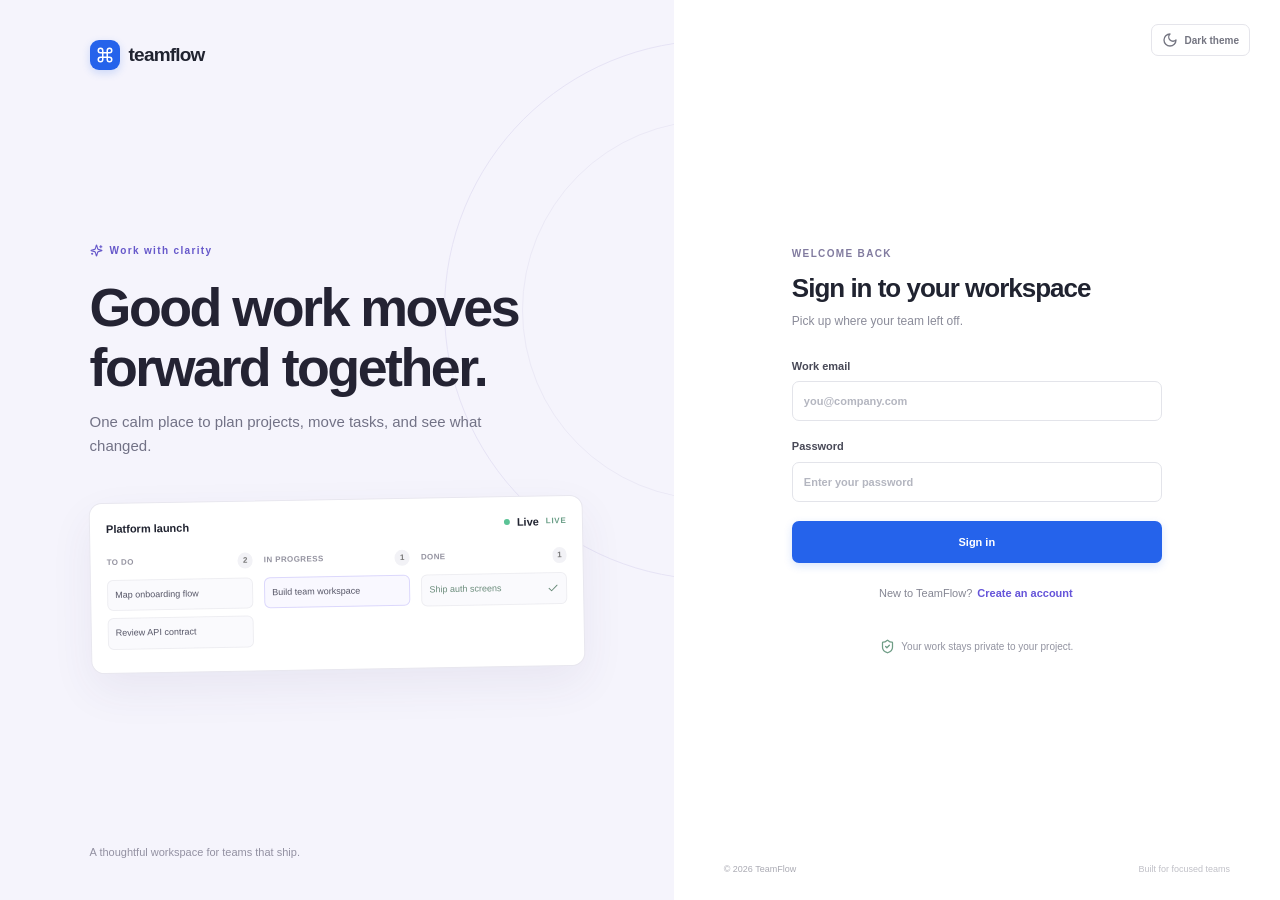
Test case: authentication form › shows a safe API error when sign in fails
In the field labelled "Work email": coordinates (977, 401) [792,381,1162,421], type "sam@example.com"
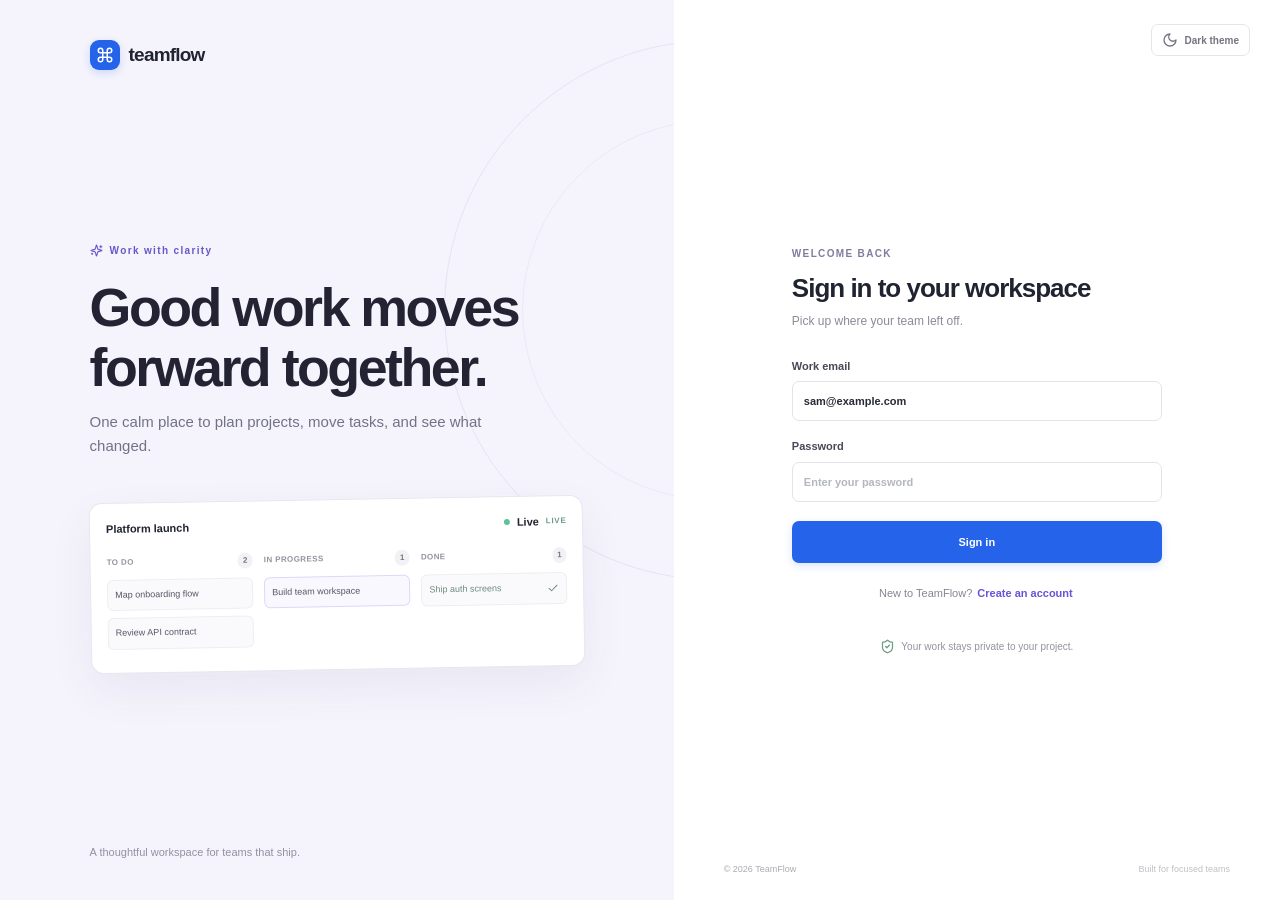
In the password field labelled "Password": coordinates (977, 482) [792,462,1162,502], type "valid-password"
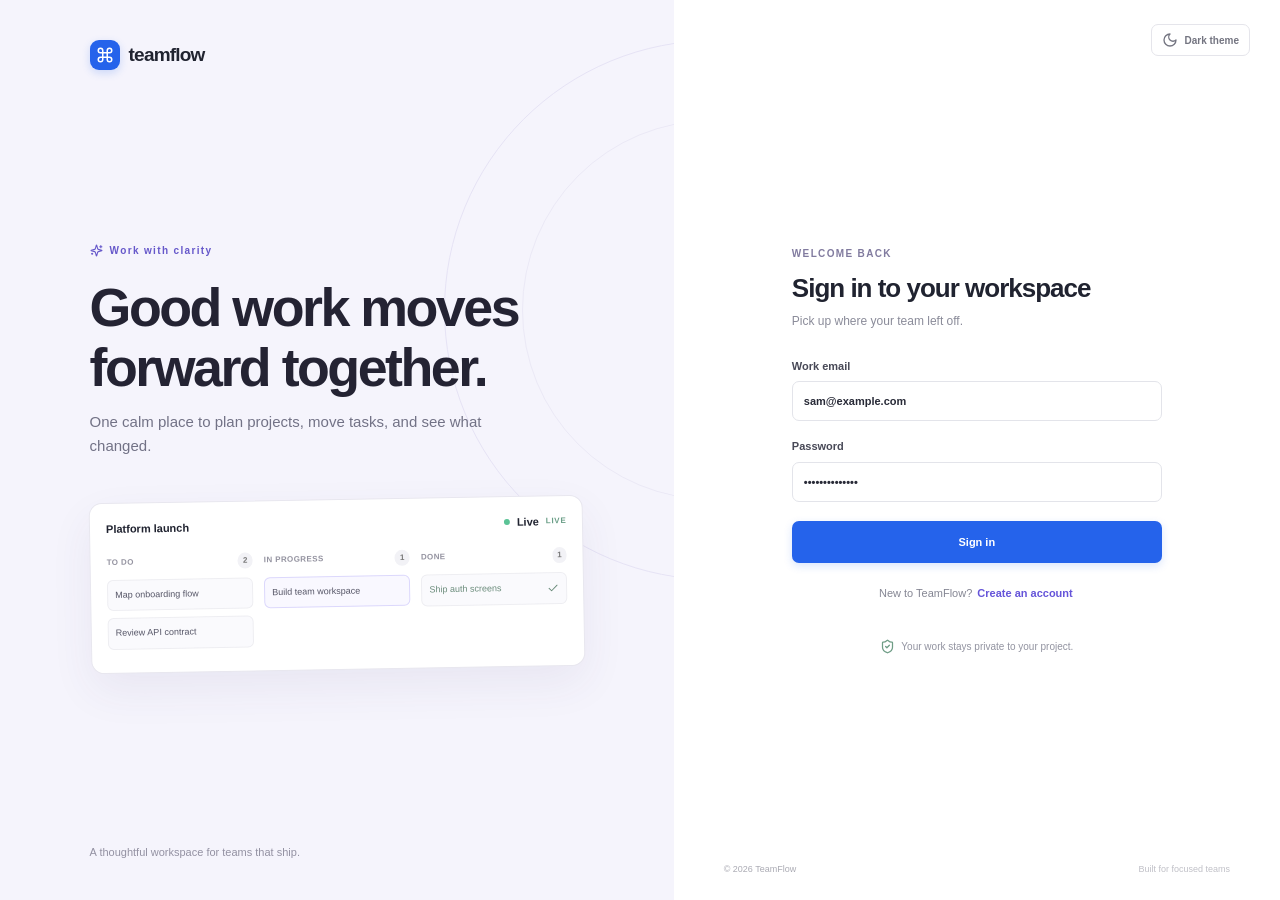
Click the button "Sign in": coordinates (977, 542) [792,521,1162,563]
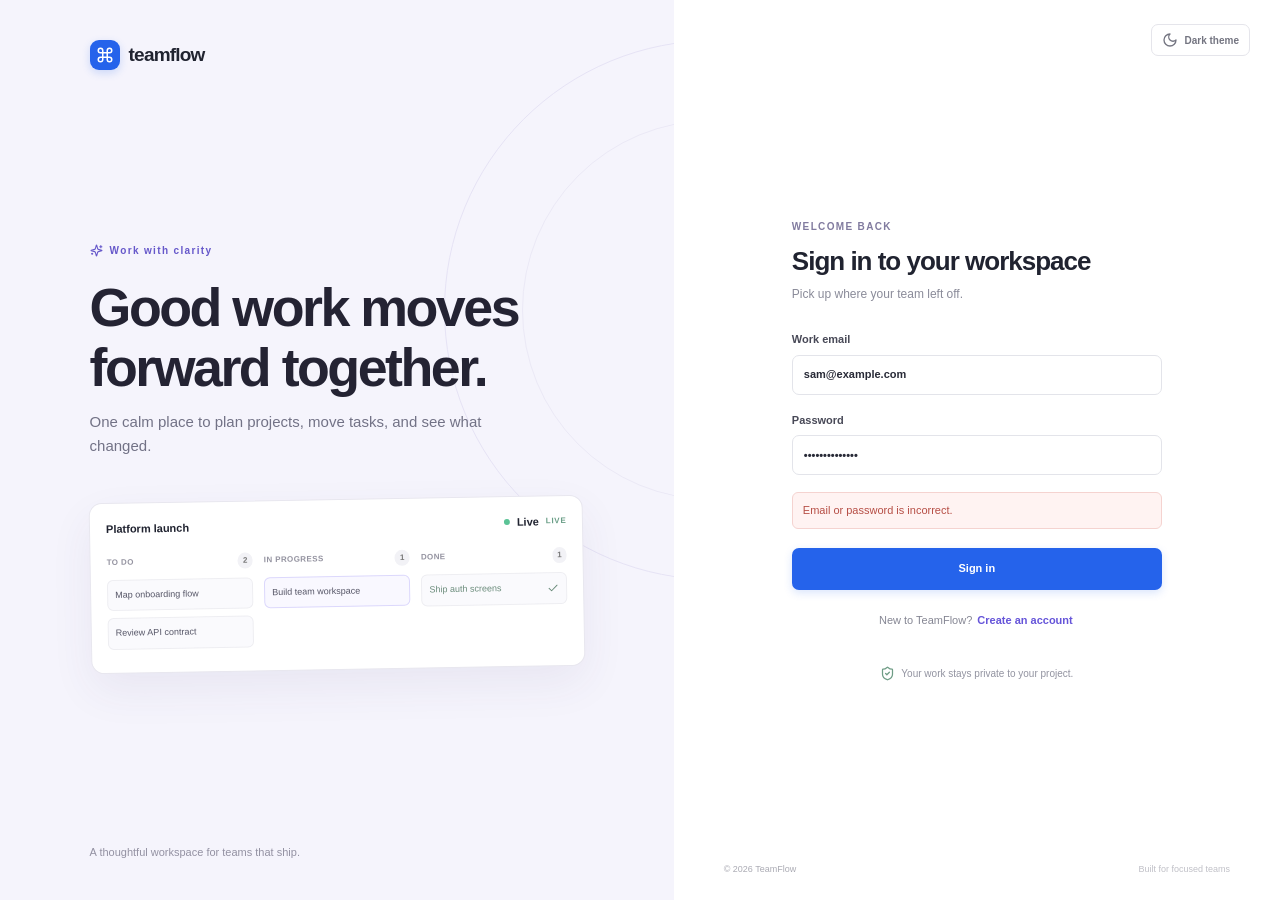
Expected: the message reads "Email or password is incorrect.", [803,504,953,516]
